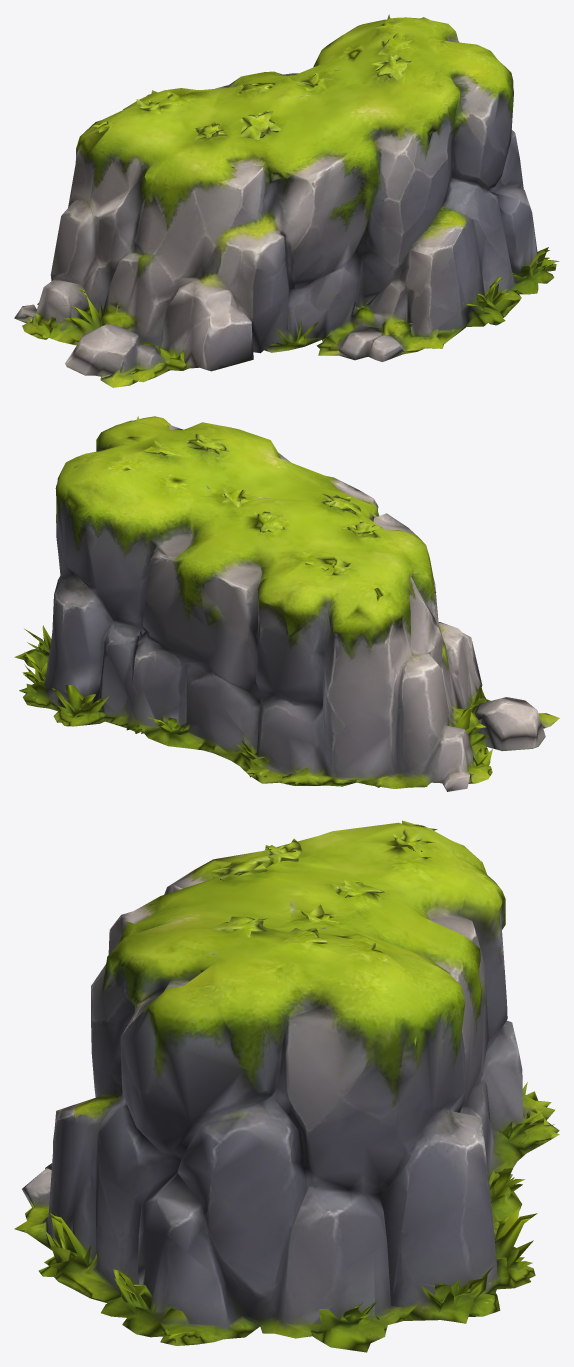
The picture shows the model from 3 angles, top to bottom: view 1: azimuth 30°, elevation 25°; view 2: azimuth 150°, elevation 25°; view 3: azimuth 270°, elevation 25°; orthographic projection. The views are drawn at different scales.
Visible parts, largest first — view 1: prop; view 2: prop; view 3: prop.
Boxes of the visible parts, x1,y1,x2,y2 form: prop: (14,14,559,387); prop: (14,416,559,791); prop: (14,820,559,1352).
Size of the model in its own units: 2.15 by 0.9851 by 1.45.
1 material, 1 textured.
